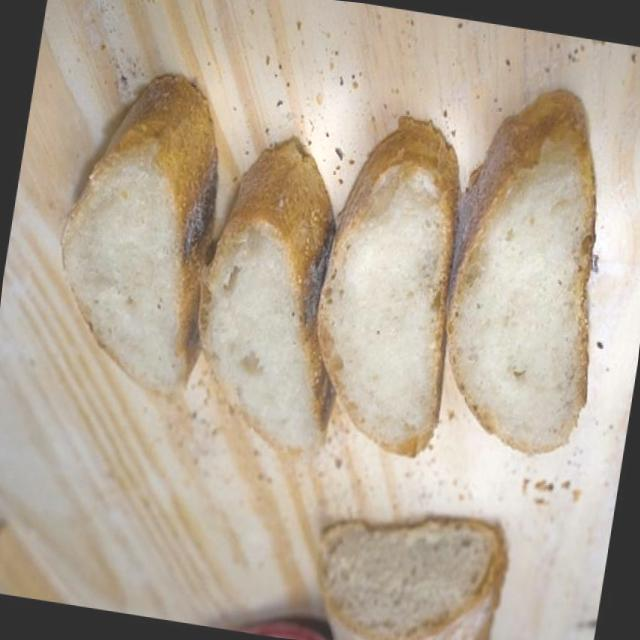Bread: (27, 39, 638, 495)
